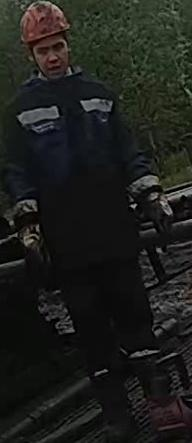gloves: (125, 174, 175, 251), (10, 199, 52, 282)
helmet: (19, 0, 70, 46)
vest: (9, 69, 140, 270)
